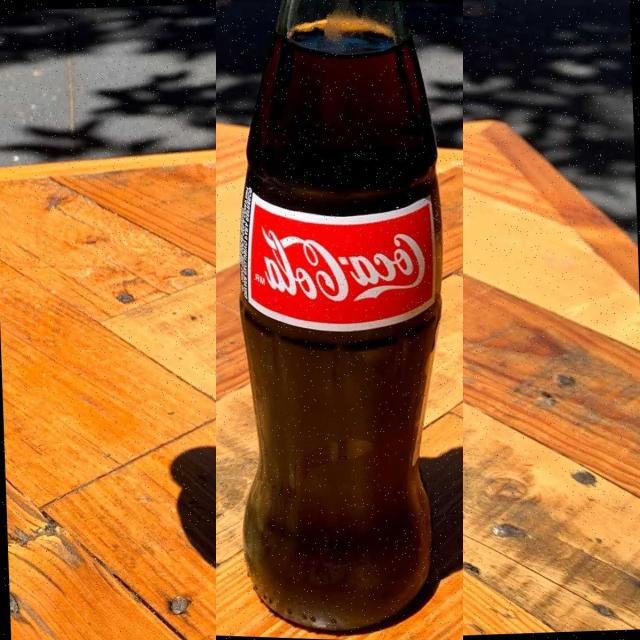coca-cola: (216, 0, 463, 640)
